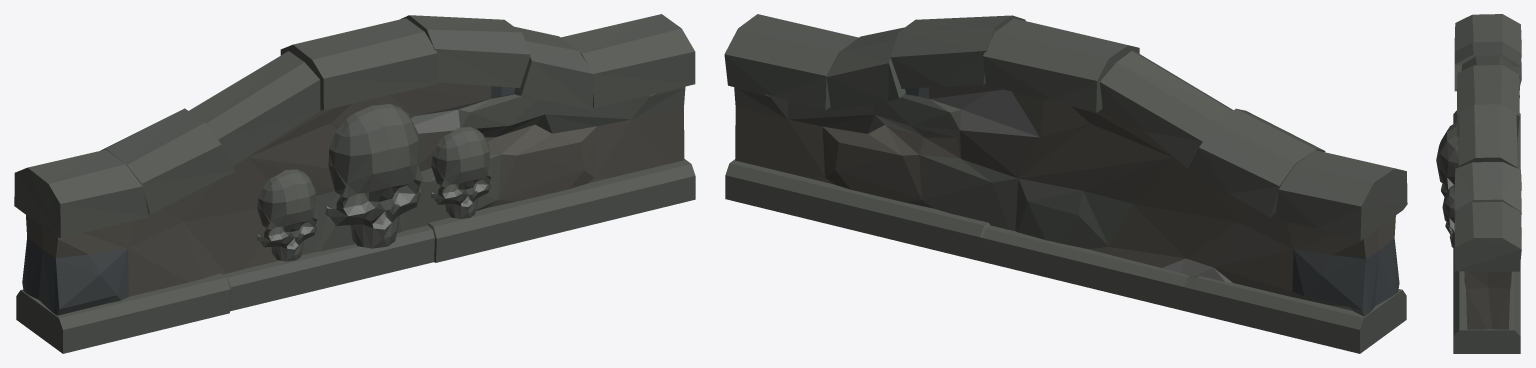
The model's file is MDungeon_SkullShortWall_01.FBX.
3 views of the same model, side by side, from view 1: azimuth 30°, elevation 25°; view 2: azimuth 150°, elevation 25°; view 3: azimuth 270°, elevation 25° (orthographic). The views are drawn at different scales.
Parts seen in each view (by area): view 1: MDungeon_SkullShortWall_01_LOD0; view 2: MDungeon_SkullShortWall_01_LOD0; view 3: MDungeon_SkullShortWall_01_LOD0.
Boxes of the visible parts, bbox=[...] form: MDungeon_SkullShortWall_01_LOD0: bbox=[14, 14, 695, 353]; MDungeon_SkullShortWall_01_LOD0: bbox=[724, 14, 1407, 353]; MDungeon_SkullShortWall_01_LOD0: bbox=[1436, 14, 1521, 353].
Size of what is drawn, in the model's own units: 6.02 by 2.02 by 0.9755.
